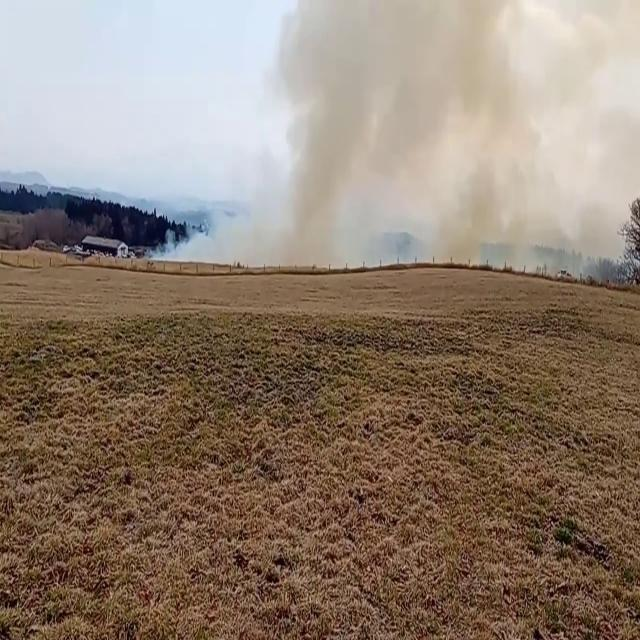Smoke: (200, 0, 632, 273)
